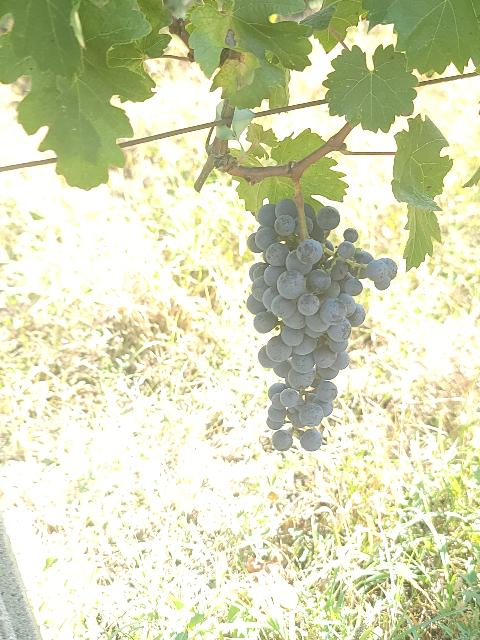grapes: (246, 199, 398, 451)
